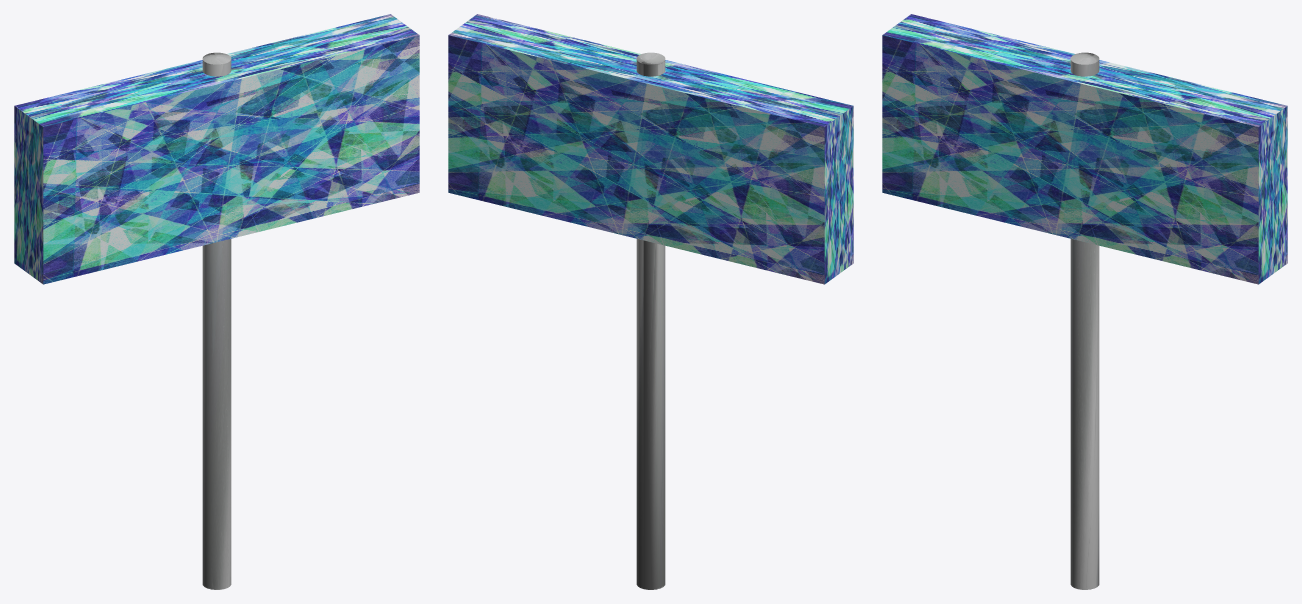
Rendered from Goal.fbx.
The picture shows the model from 3 angles, left to right: view 1: azimuth 30°, elevation 25°; view 2: azimuth 150°, elevation 25°; view 3: azimuth 330°, elevation 25°; orthographic projection.
Parts seen in each view (by area): view 1: hata, hataStick; view 2: hata, hataStick; view 3: hata, hataStick.
Part boxes in pixels (x1,y1,x2,y2): hata: (14, 14, 419, 284); hataStick: (202, 52, 231, 589); hata: (448, 14, 853, 284); hataStick: (636, 52, 665, 589); hata: (882, 14, 1287, 284); hataStick: (1070, 52, 1099, 589).
Bounding box in the file's own units: 67.01 × 8.93 × 89.35.
2 materials, 2 textured.
